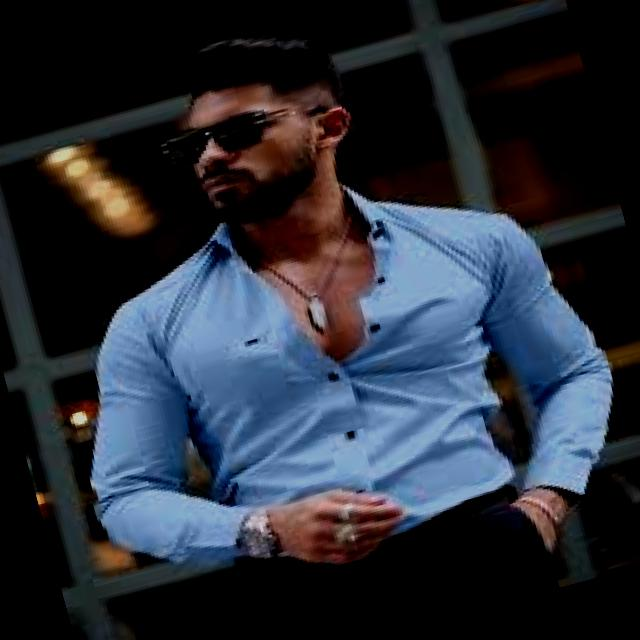face: (185, 83, 319, 224)
lower-wear: (233, 490, 558, 639)
top-wear: (91, 190, 611, 563)
